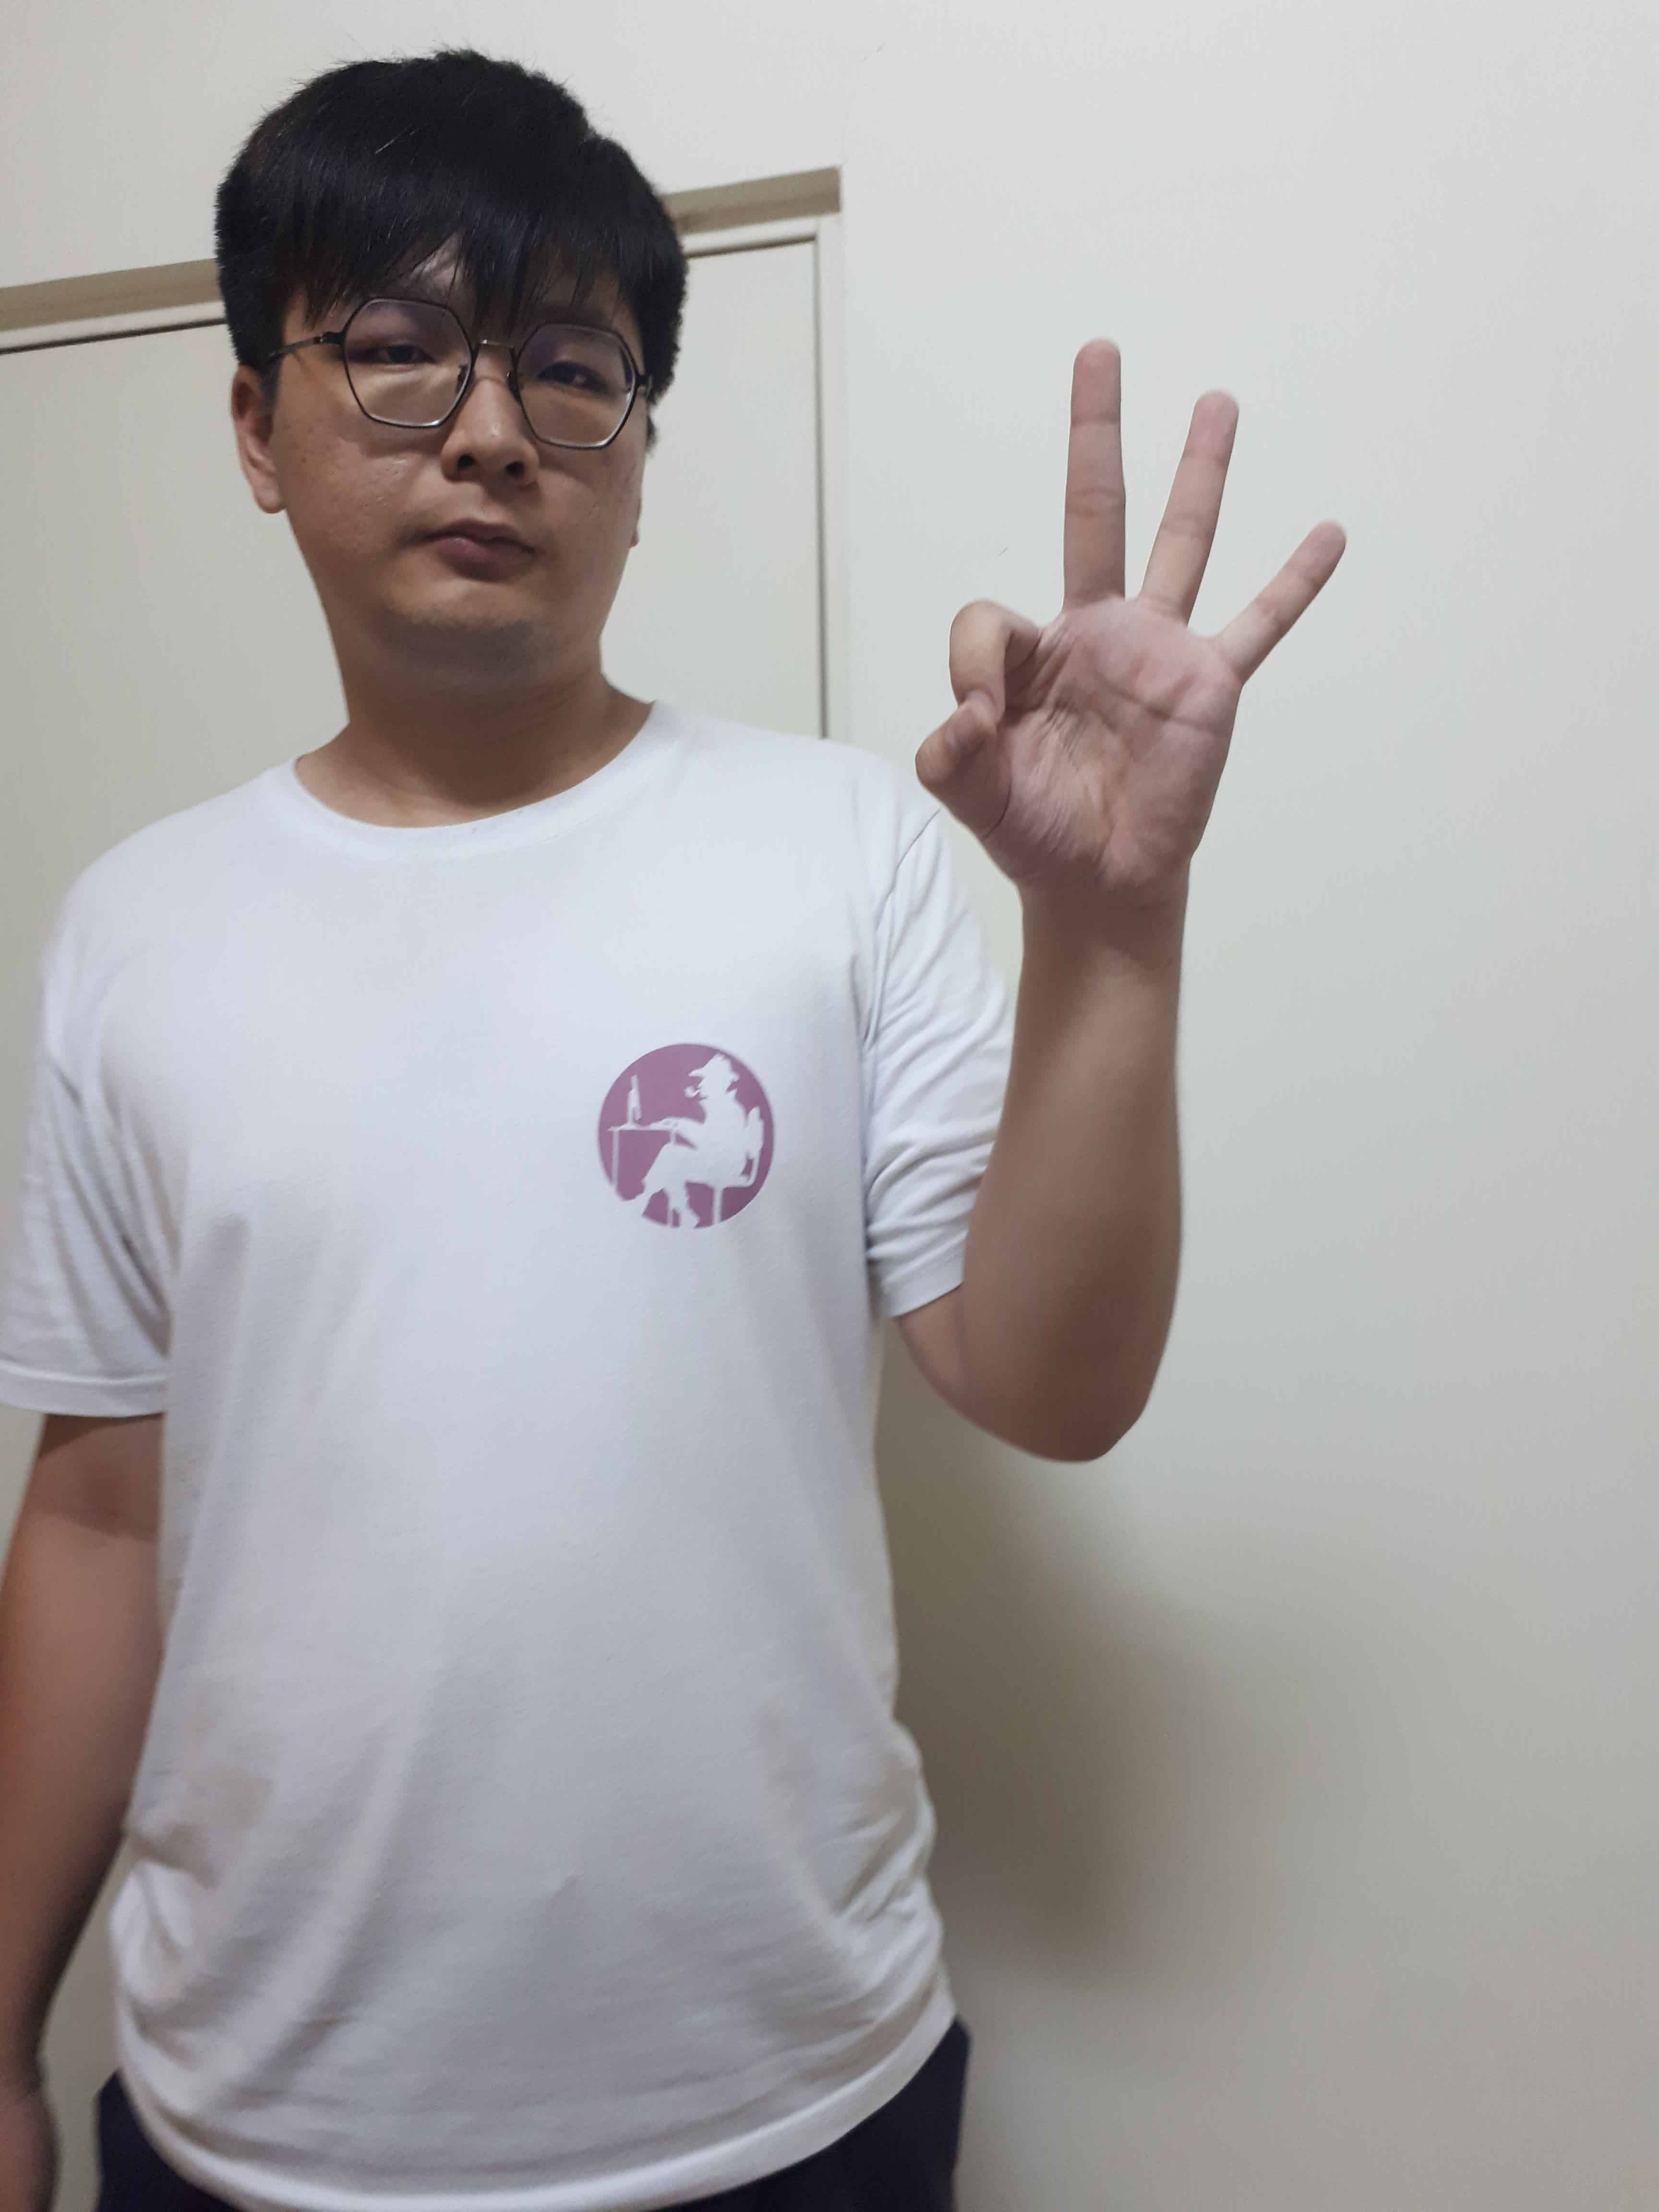ok: (901, 320, 1354, 920)
